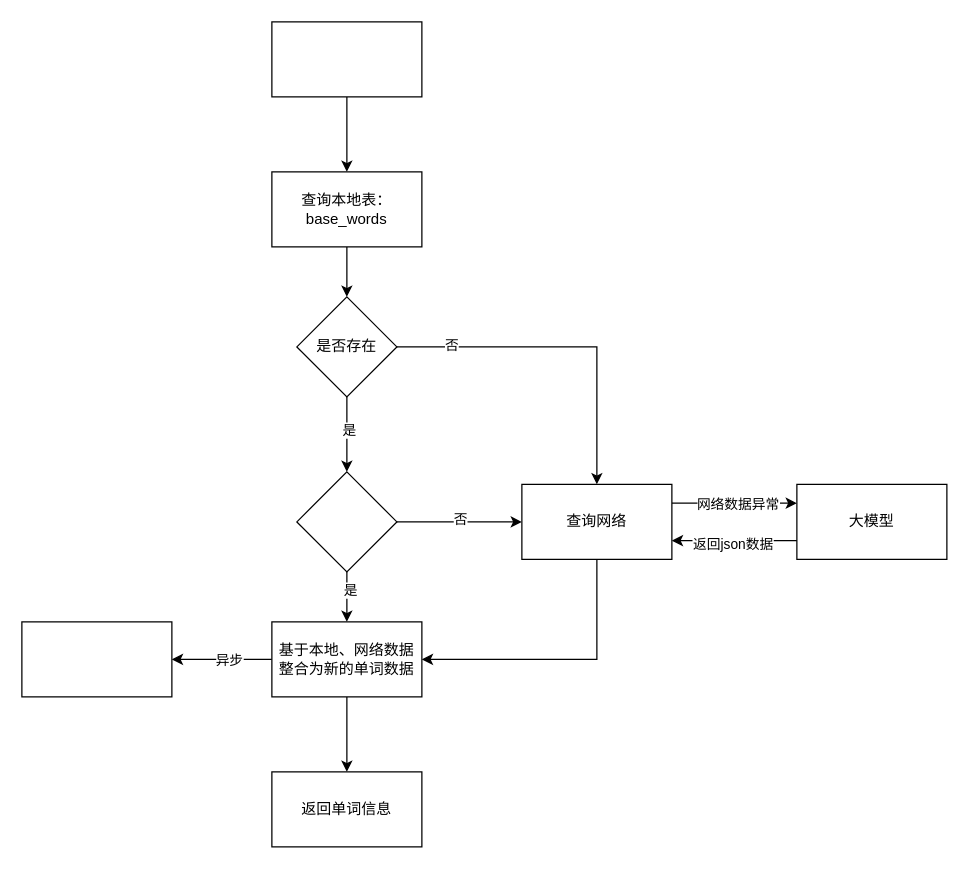
Some shapes in this 969 by 869 pixel diagram are drawn without their labels. The shapes that lost their labels are listed below. From the top down, each one's centre as x and y in pixels, then its label:
[346,59]: 输入单词：hello
[346,521]: audio是否存在
[96,659]: 同步本地单词表
